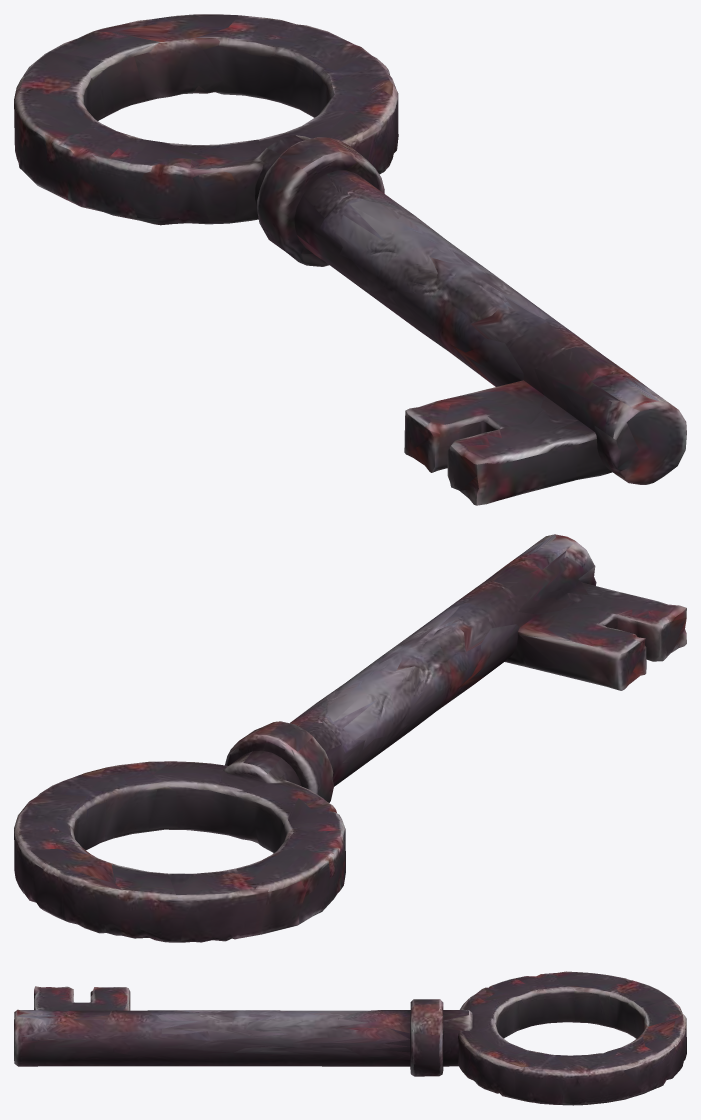
File: tool_can_opener_ruchnoy_idle.glb
The picture shows the model from 3 angles, top to bottom: view 1: azimuth 30°, elevation 25°; view 2: azimuth 150°, elevation 25°; view 3: azimuth 270°, elevation 25°; orthographic projection. The views are drawn at different scales.
Visible parts, largest first — view 1: tripo_node_fe046786-1471-45ab-93c6-f4ab9f36d5e1; view 2: tripo_node_fe046786-1471-45ab-93c6-f4ab9f36d5e1; view 3: tripo_node_fe046786-1471-45ab-93c6-f4ab9f36d5e1.
Part boxes in pixels (x1,y1,x2,y2): tripo_node_fe046786-1471-45ab-93c6-f4ab9f36d5e1: [14, 14, 686, 505]; tripo_node_fe046786-1471-45ab-93c6-f4ab9f36d5e1: [14, 534, 686, 942]; tripo_node_fe046786-1471-45ab-93c6-f4ab9f36d5e1: [14, 971, 686, 1105].
Size of the model in its own units: 0.1501 by 0.0475 by 0.4162.
1 material, 1 textured.
